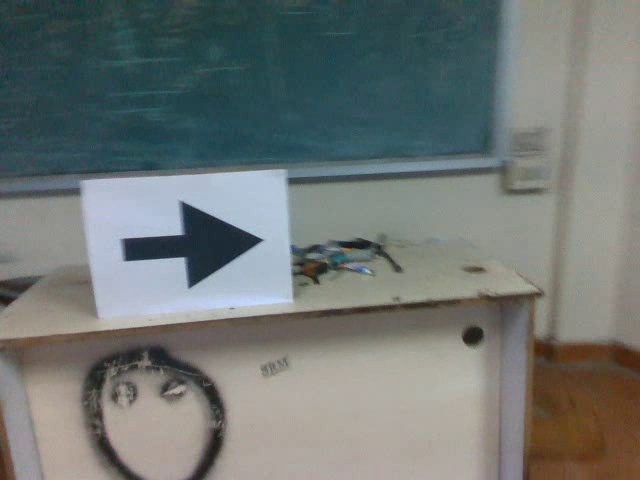Right: (111, 198, 267, 295)
